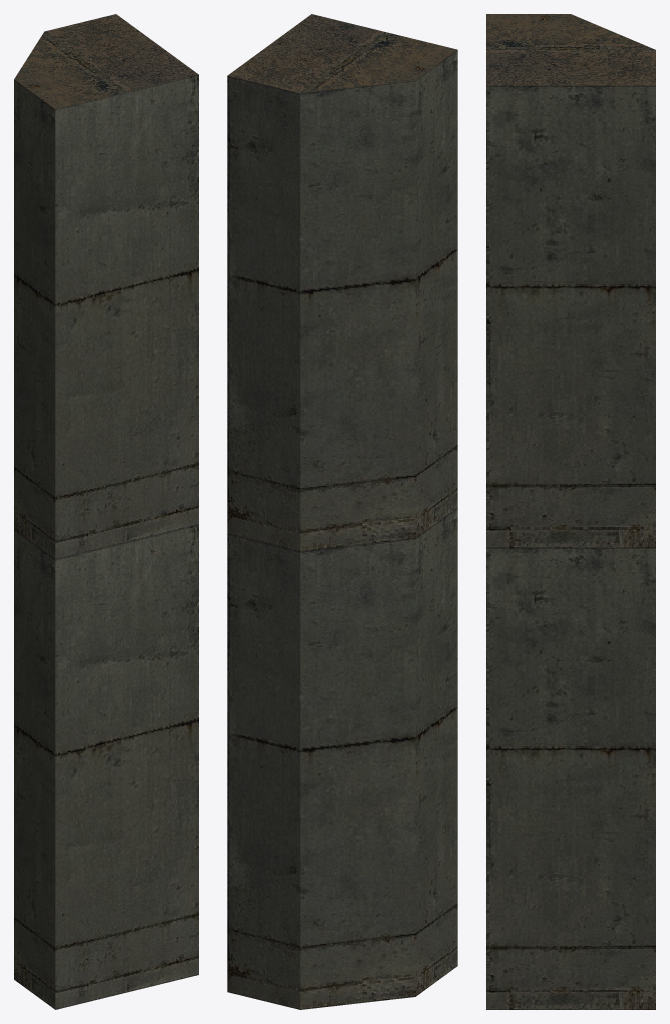
Rendered from pillar_rg_6.glb.
3 views of the same model, side by side, from view 1: azimuth 30°, elevation 25°; view 2: azimuth 150°, elevation 25°; view 3: azimuth 270°, elevation 25° (orthographic). The views are drawn at different scales.
Visible parts, largest first — view 1: pillar_rg_6; view 2: pillar_rg_6; view 3: pillar_rg_6.
Part boxes in pixels (<box>): pillar_rg_6: <box>14,14,198,1009</box>; pillar_rg_6: <box>227,14,457,1009</box>; pillar_rg_6: <box>486,14,655,1009</box>.
Size of the model in its own units: 1 by 6 by 1.
2 materials, 2 textured.
